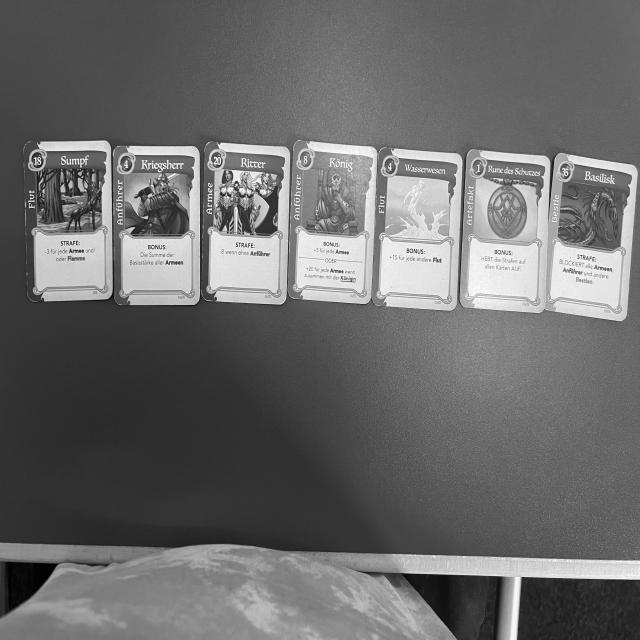Basilisk: (541, 144, 640, 323)
King: (287, 139, 379, 308)
Knights: (202, 143, 290, 304)
Rune Of Protection: (458, 148, 551, 315)
Swamp: (22, 140, 112, 302)
Warlord: (112, 140, 201, 308)
Water Elemental: (371, 145, 462, 312)
